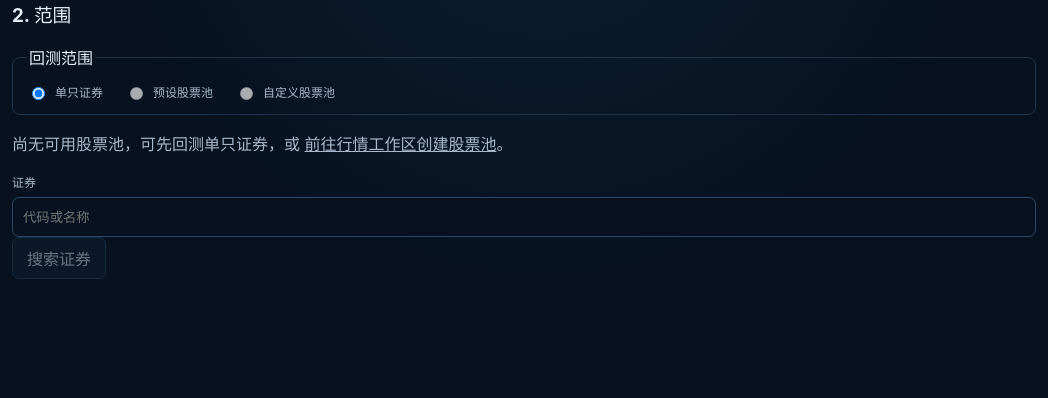
it: filters out non-stock and delisted instruments from selectable results
The width and height of the screenshot is (1048, 398).
Type "股票" into the field labelled "证券". click: (524, 217)
box: left=12, top=197, right=1036, bottom=237
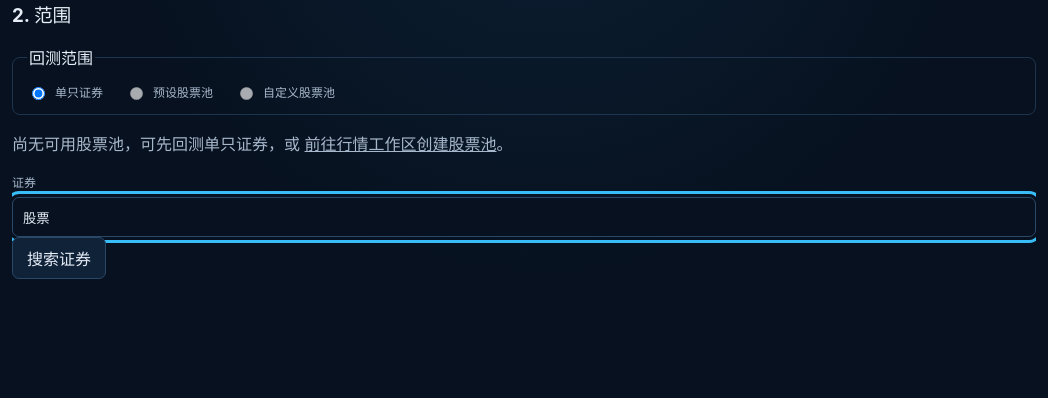
Click the button "搜索证券". click: (59, 258)
box: left=12, top=237, right=106, bottom=279
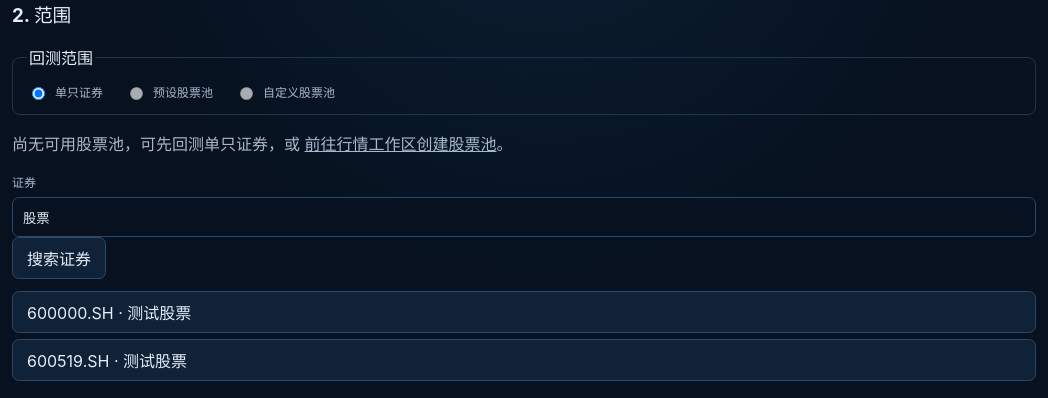
Check: the button "600000.SH · 测试股票" is shown, box left=12, top=291, right=1036, bottom=333
Check: the button "600519.SH · 测试股票" is shown, box left=12, top=339, right=1036, bottom=381
